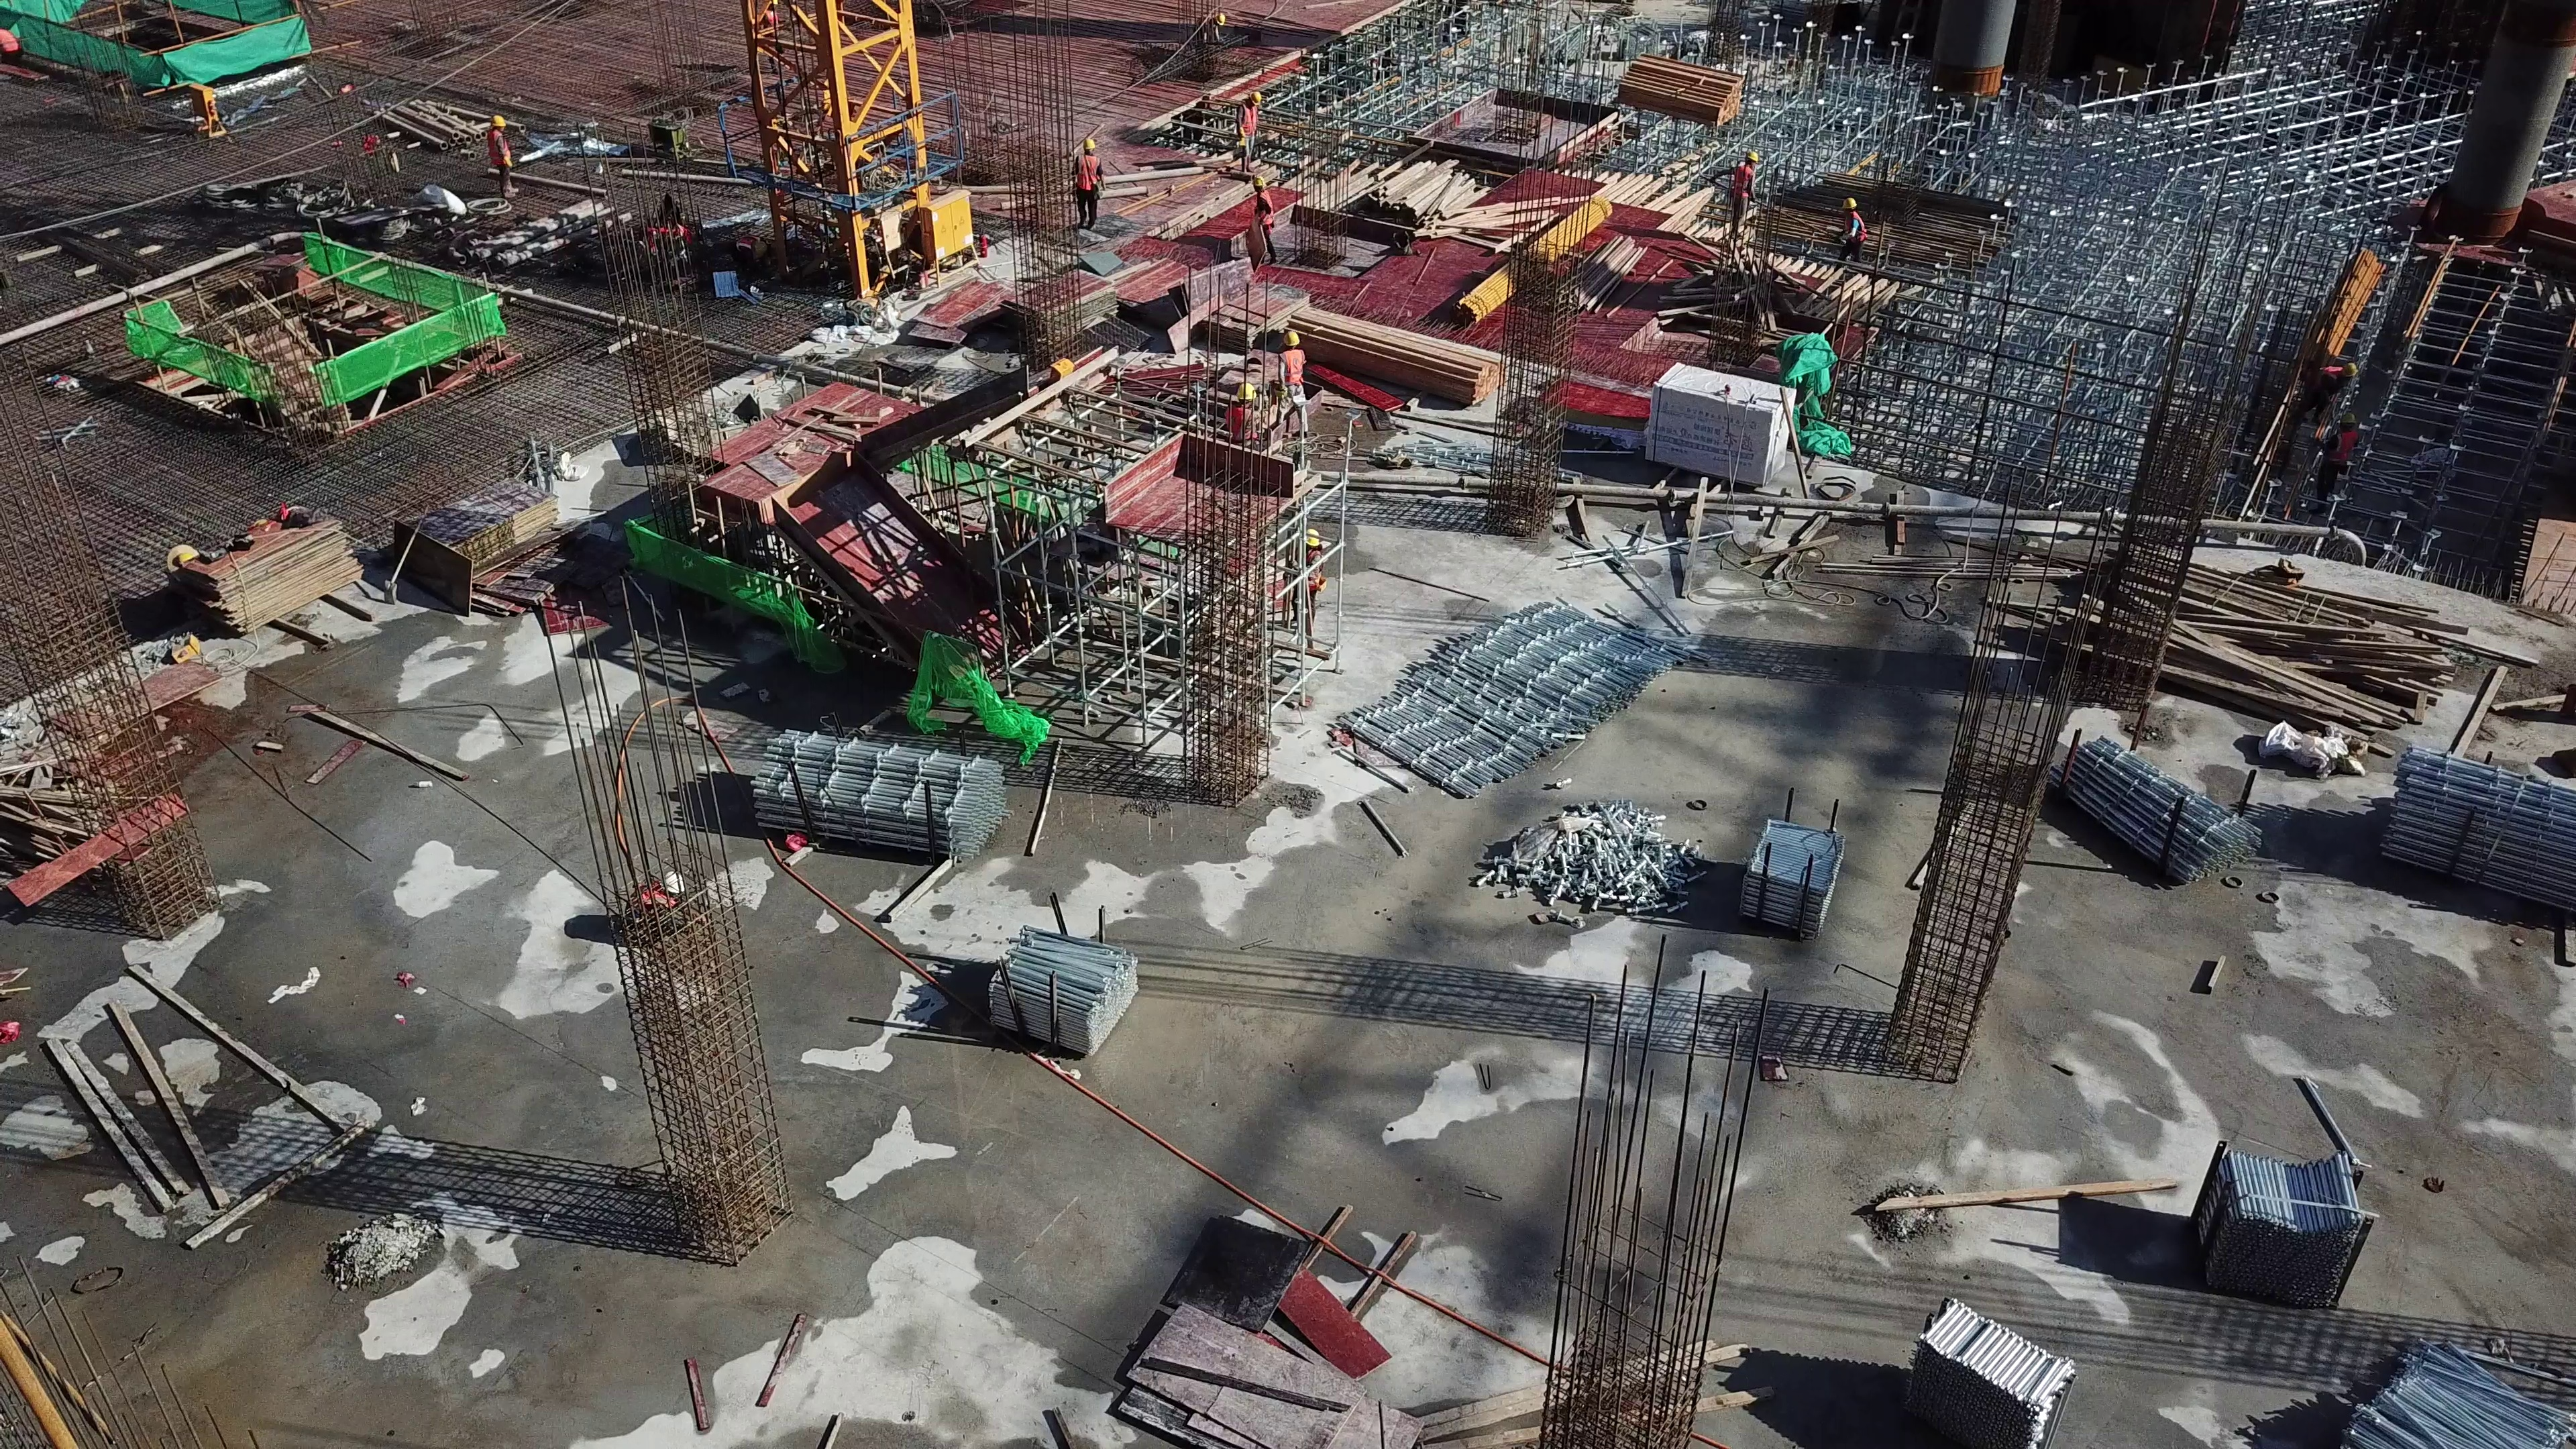board: (186, 508, 362, 645), (394, 474, 557, 619)
person: (1269, 325, 1318, 415), (484, 109, 525, 208), (1079, 126, 1111, 246), (1727, 141, 1762, 249), (1234, 76, 1266, 173), (1840, 188, 1878, 264), (1251, 188, 1289, 266), (1228, 386, 1269, 441)
scaffold: (1342, 587, 1662, 797), (1487, 792, 1846, 963), (2039, 716, 2275, 902), (741, 716, 1009, 873), (2371, 742, 2576, 941), (2255, 1328, 2576, 1434), (1911, 1290, 2068, 1449), (2208, 1147, 2374, 1290), (980, 926, 1137, 1051)
wood: (2000, 552, 2467, 736), (1292, 305, 1499, 412), (1350, 162, 1528, 246)
